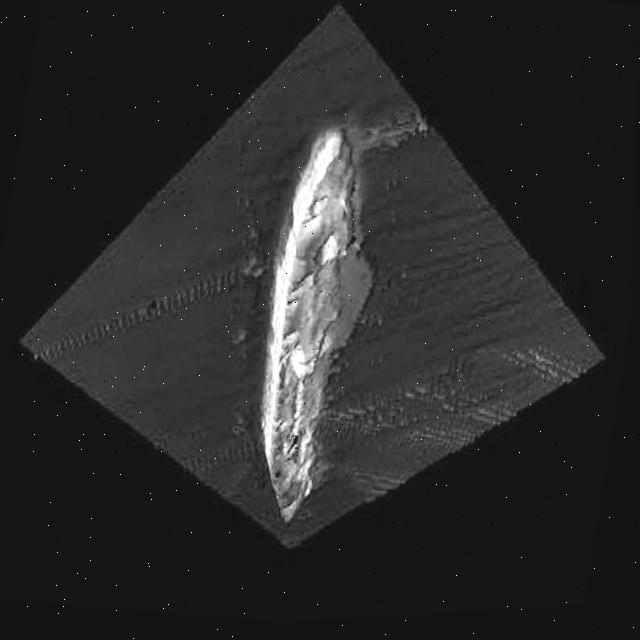shipwreck: (237, 124, 380, 536)
